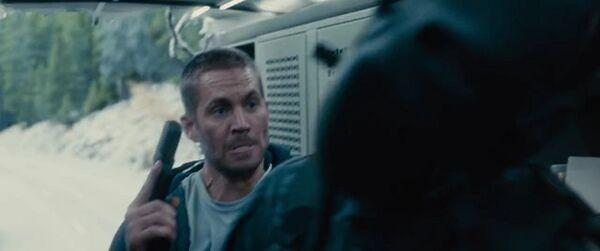Gun: (143, 119, 183, 201)
